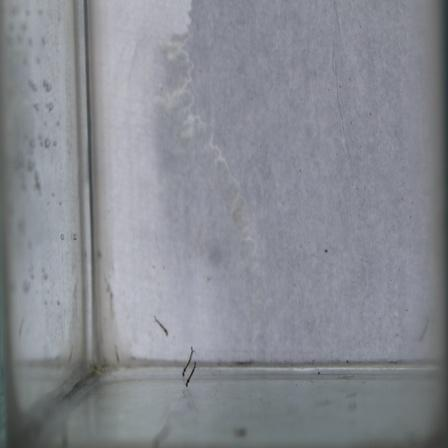Jentik-Nyamuk: (177, 343, 199, 393), (150, 311, 172, 338)
